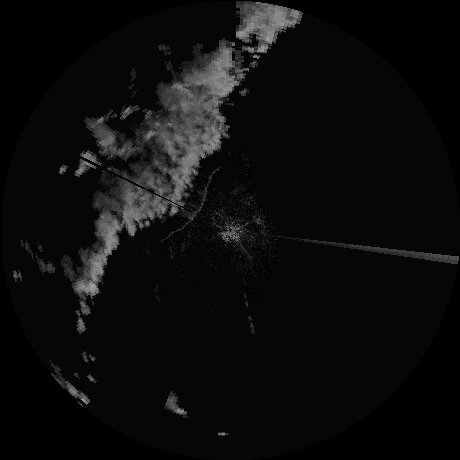frontgust: (167, 164, 222, 238)
